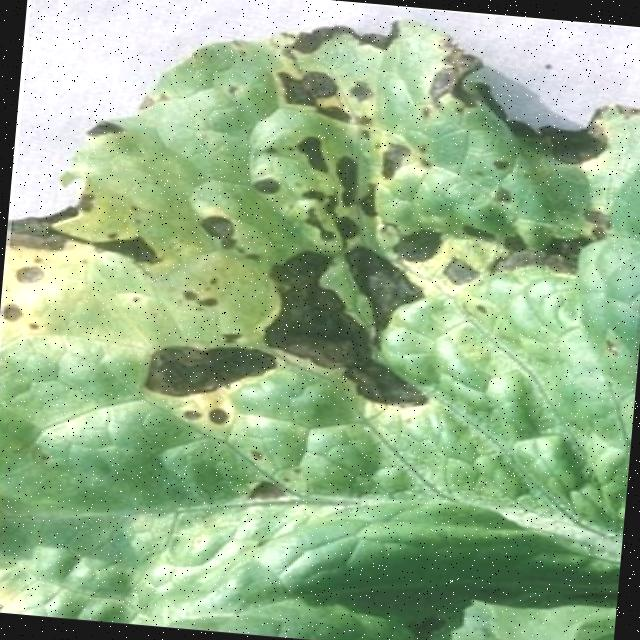Bacterial: (110, 172, 612, 463)
